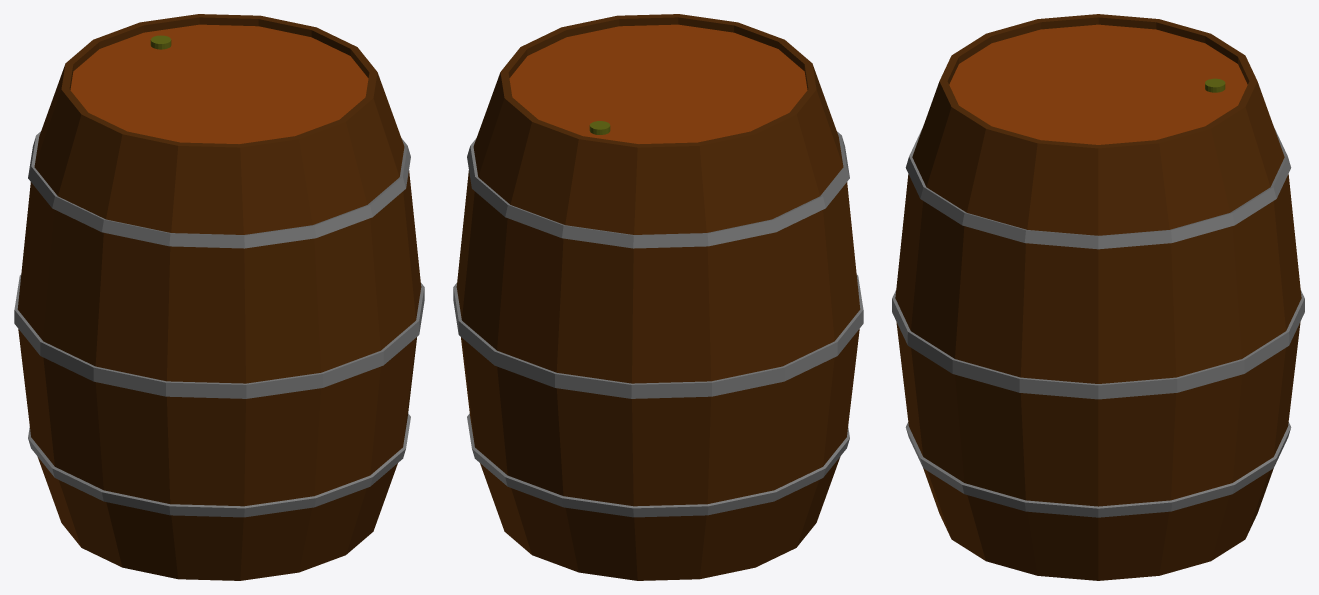
File: Barrel.gltf
The picture shows the model from 3 angles, left to right: view 1: azimuth 30°, elevation 25°; view 2: azimuth 150°, elevation 25°; view 3: azimuth 270°, elevation 25°; orthographic projection.
Parts seen in each view (by area): view 1: Cylinder; view 2: Cylinder; view 3: Cylinder.
Boxes of the visible parts, <box> form: Cylinder: <box>14,14,424,580</box>; Cylinder: <box>453,14,863,580</box>; Cylinder: <box>892,14,1304,580</box>.
Bounding box in the file's own units: 2.6 × 3 × 2.6.
